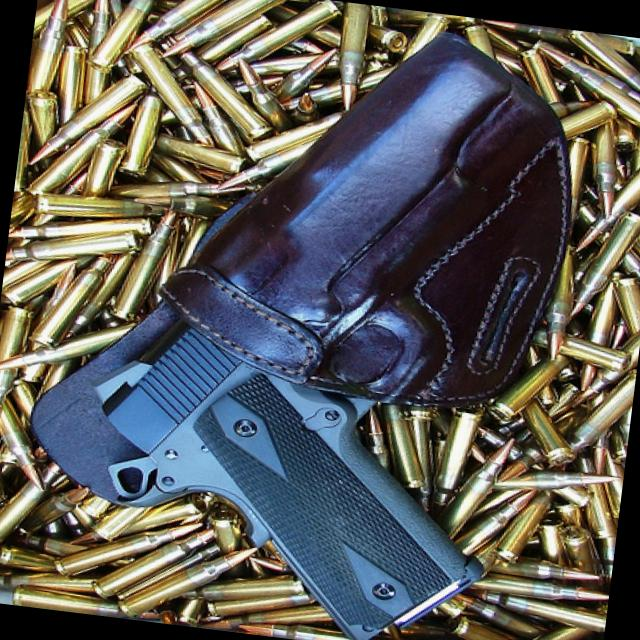handgun: (60, 0, 586, 639)
